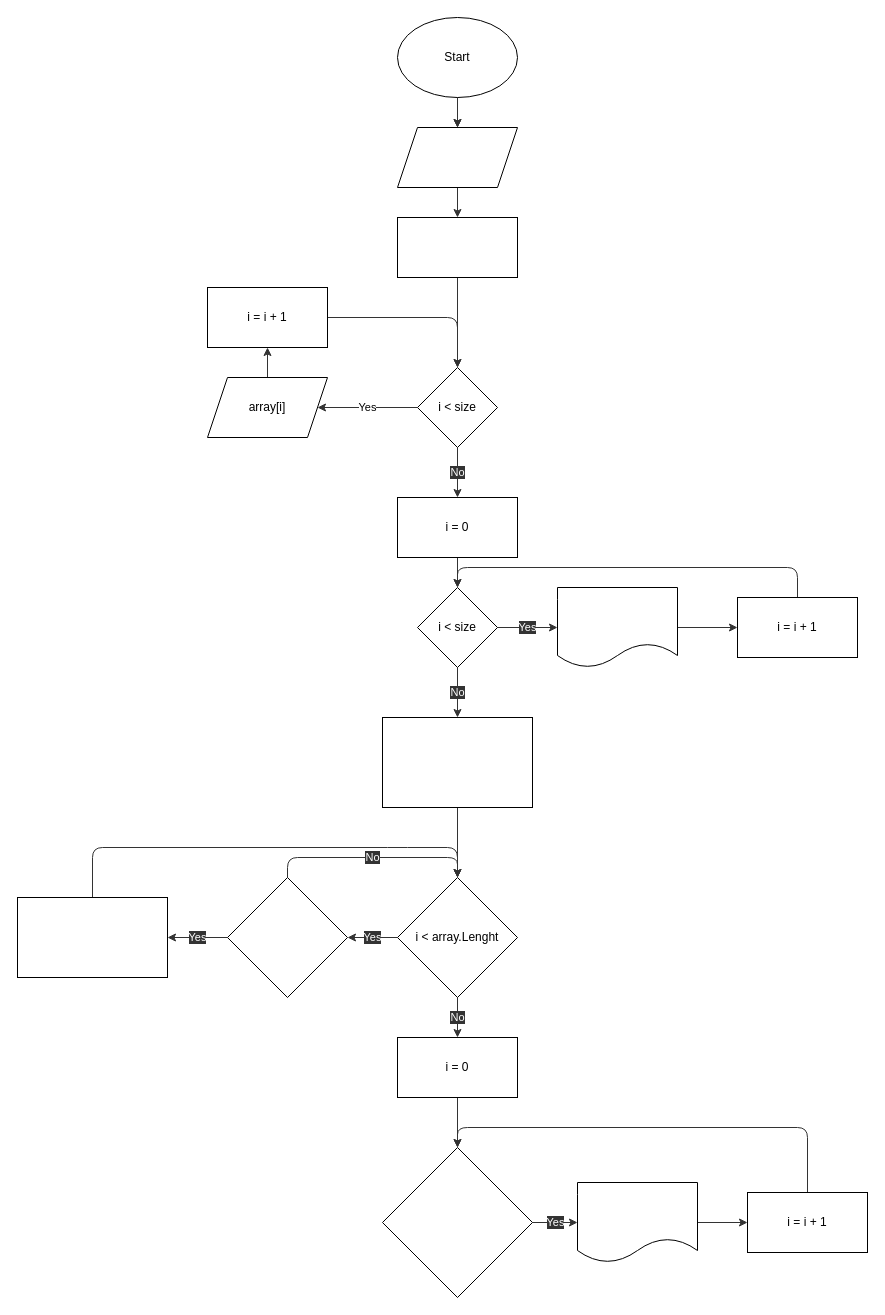
Some shapes in this 885 by 1315 pixel diagram are drawn without their labels. The shapes that lost their labels are listed below. From the top down, each one's centre as x and y in pixels, then its label:
the point at 457,157: size
the point at 457,247: array[0 : size - 1] i = 0
the point at 457,762: changedArray[0 : array.Lenght - 1] i = 0 j = 0 count = 0
the point at 92,937: changedArray[j] = array[i] j = j + 1 count = count + 1
the point at 287,937: array[i].Lenght > 3
the point at 457,1222: i < changedArray.Lenght
